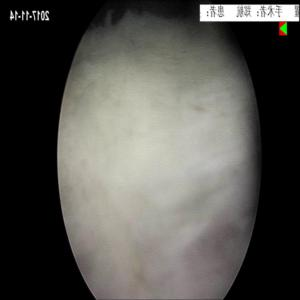film: (75, 49, 178, 132)
